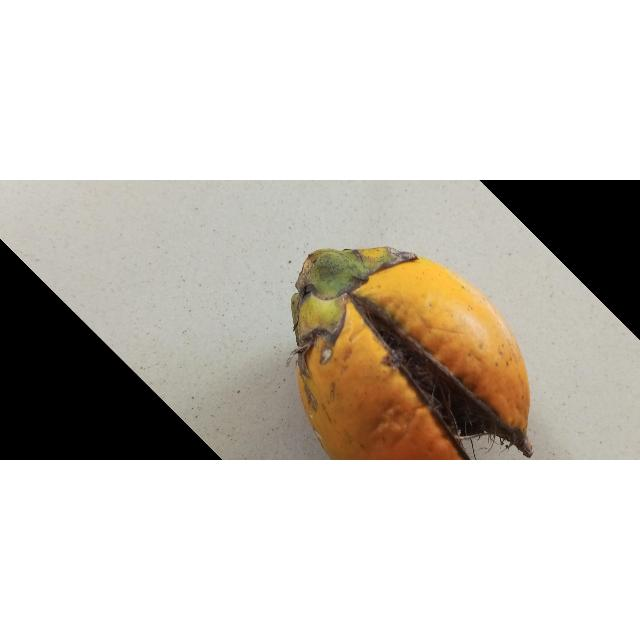damaged: (291, 247, 533, 461)
